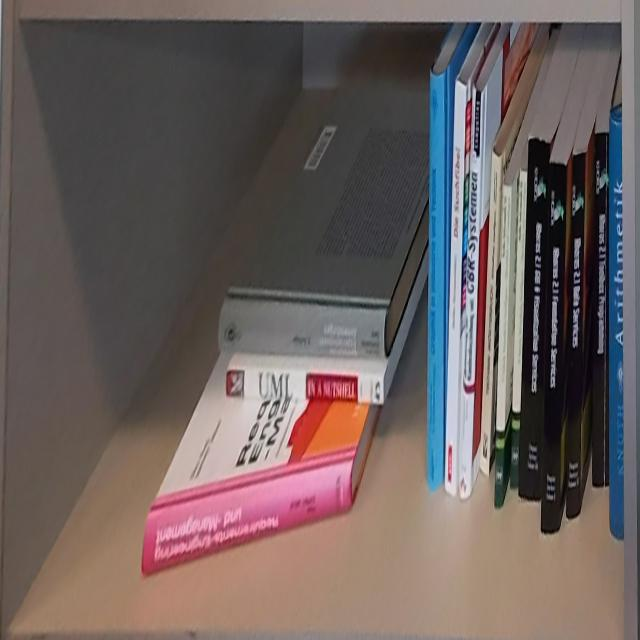Book Spine: (141, 467, 353, 577), (458, 84, 485, 501), (519, 137, 549, 501), (217, 296, 387, 356), (541, 163, 566, 533), (444, 80, 466, 496), (427, 71, 445, 492), (566, 148, 586, 519), (479, 152, 501, 476), (592, 132, 609, 489), (610, 113, 624, 540), (494, 184, 512, 508), (511, 170, 527, 488), (225, 370, 384, 402)
